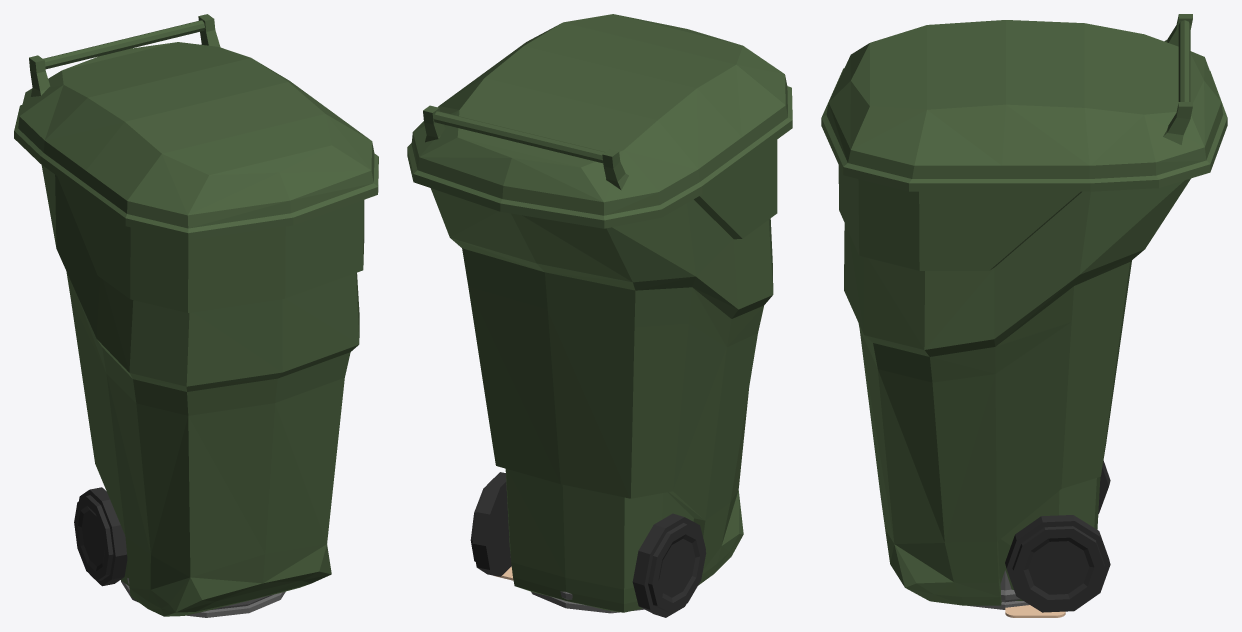
Rendered from straat.glb.
The picture shows the model from 3 angles, left to right: view 1: azimuth 30°, elevation 25°; view 2: azimuth 150°, elevation 25°; view 3: azimuth 270°, elevation 25°; orthographic projection. The views are drawn at different scales.
Visible parts, largest first — view 1: Trashcan_Green, Trashcan_Cylindric; view 2: Trashcan_Green, Trashcan_Cylindric; view 3: Trashcan_Green, Trashcan_Cylindric.
Boxes of the visible parts, box(x1,y1,x2,y2) form: Trashcan_Green: box(14, 14, 378, 616); Trashcan_Cylindric: box(121, 578, 285, 617); Trashcan_Green: box(407, 14, 792, 617); Trashcan_Cylindric: box(531, 591, 644, 613); Trashcan_Green: box(821, 14, 1227, 612); Trashcan_Cylindric: box(967, 570, 1029, 609).
Bounding box in the file's own units: 1.22 × 2.21 × 1.59.
